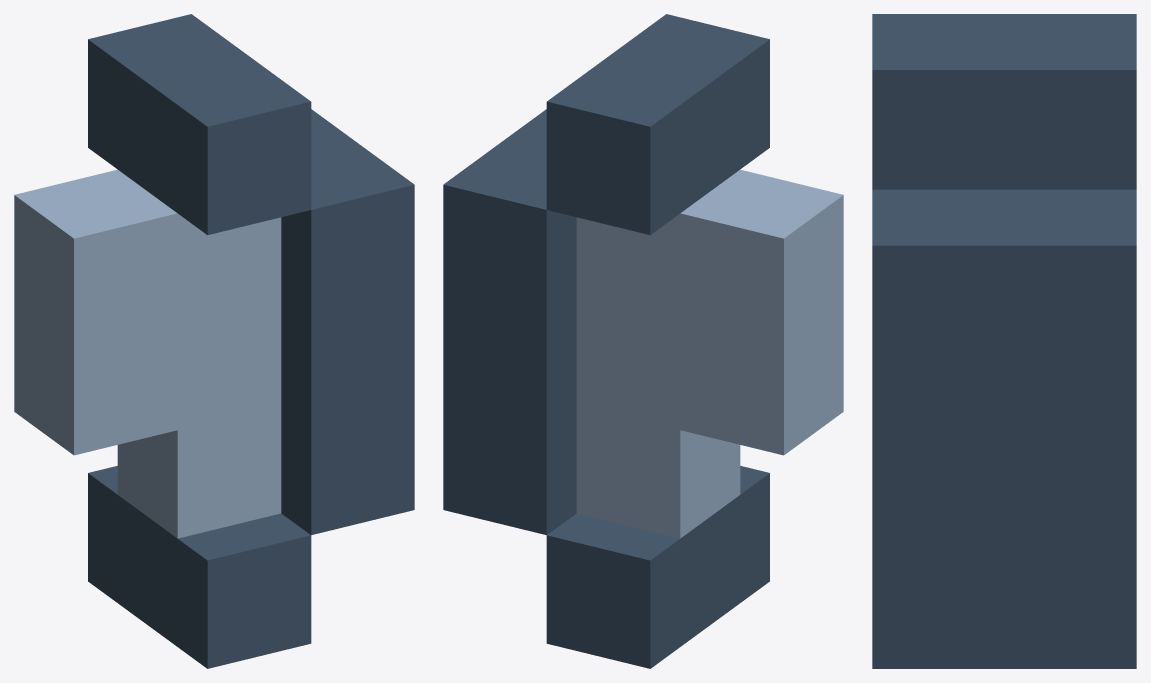
Rendered from Broken Rock1.fbx.
3 views of the same model, side by side, from view 1: azimuth 30°, elevation 25°; view 2: azimuth 150°, elevation 25°; view 3: azimuth 270°, elevation 25° (orthographic). The views are drawn at different scales.
Parts seen in each view (by area): view 1: generated; view 2: generated; view 3: generated.
Boxes of the visible parts, left/top/right/bottom form: generated: left=14, top=14, right=414, bottom=668; generated: left=443, top=14, right=843, bottom=668; generated: left=872, top=14, right=1136, bottom=668.
Size of the model in its own units: 30 by 50 by 20.
